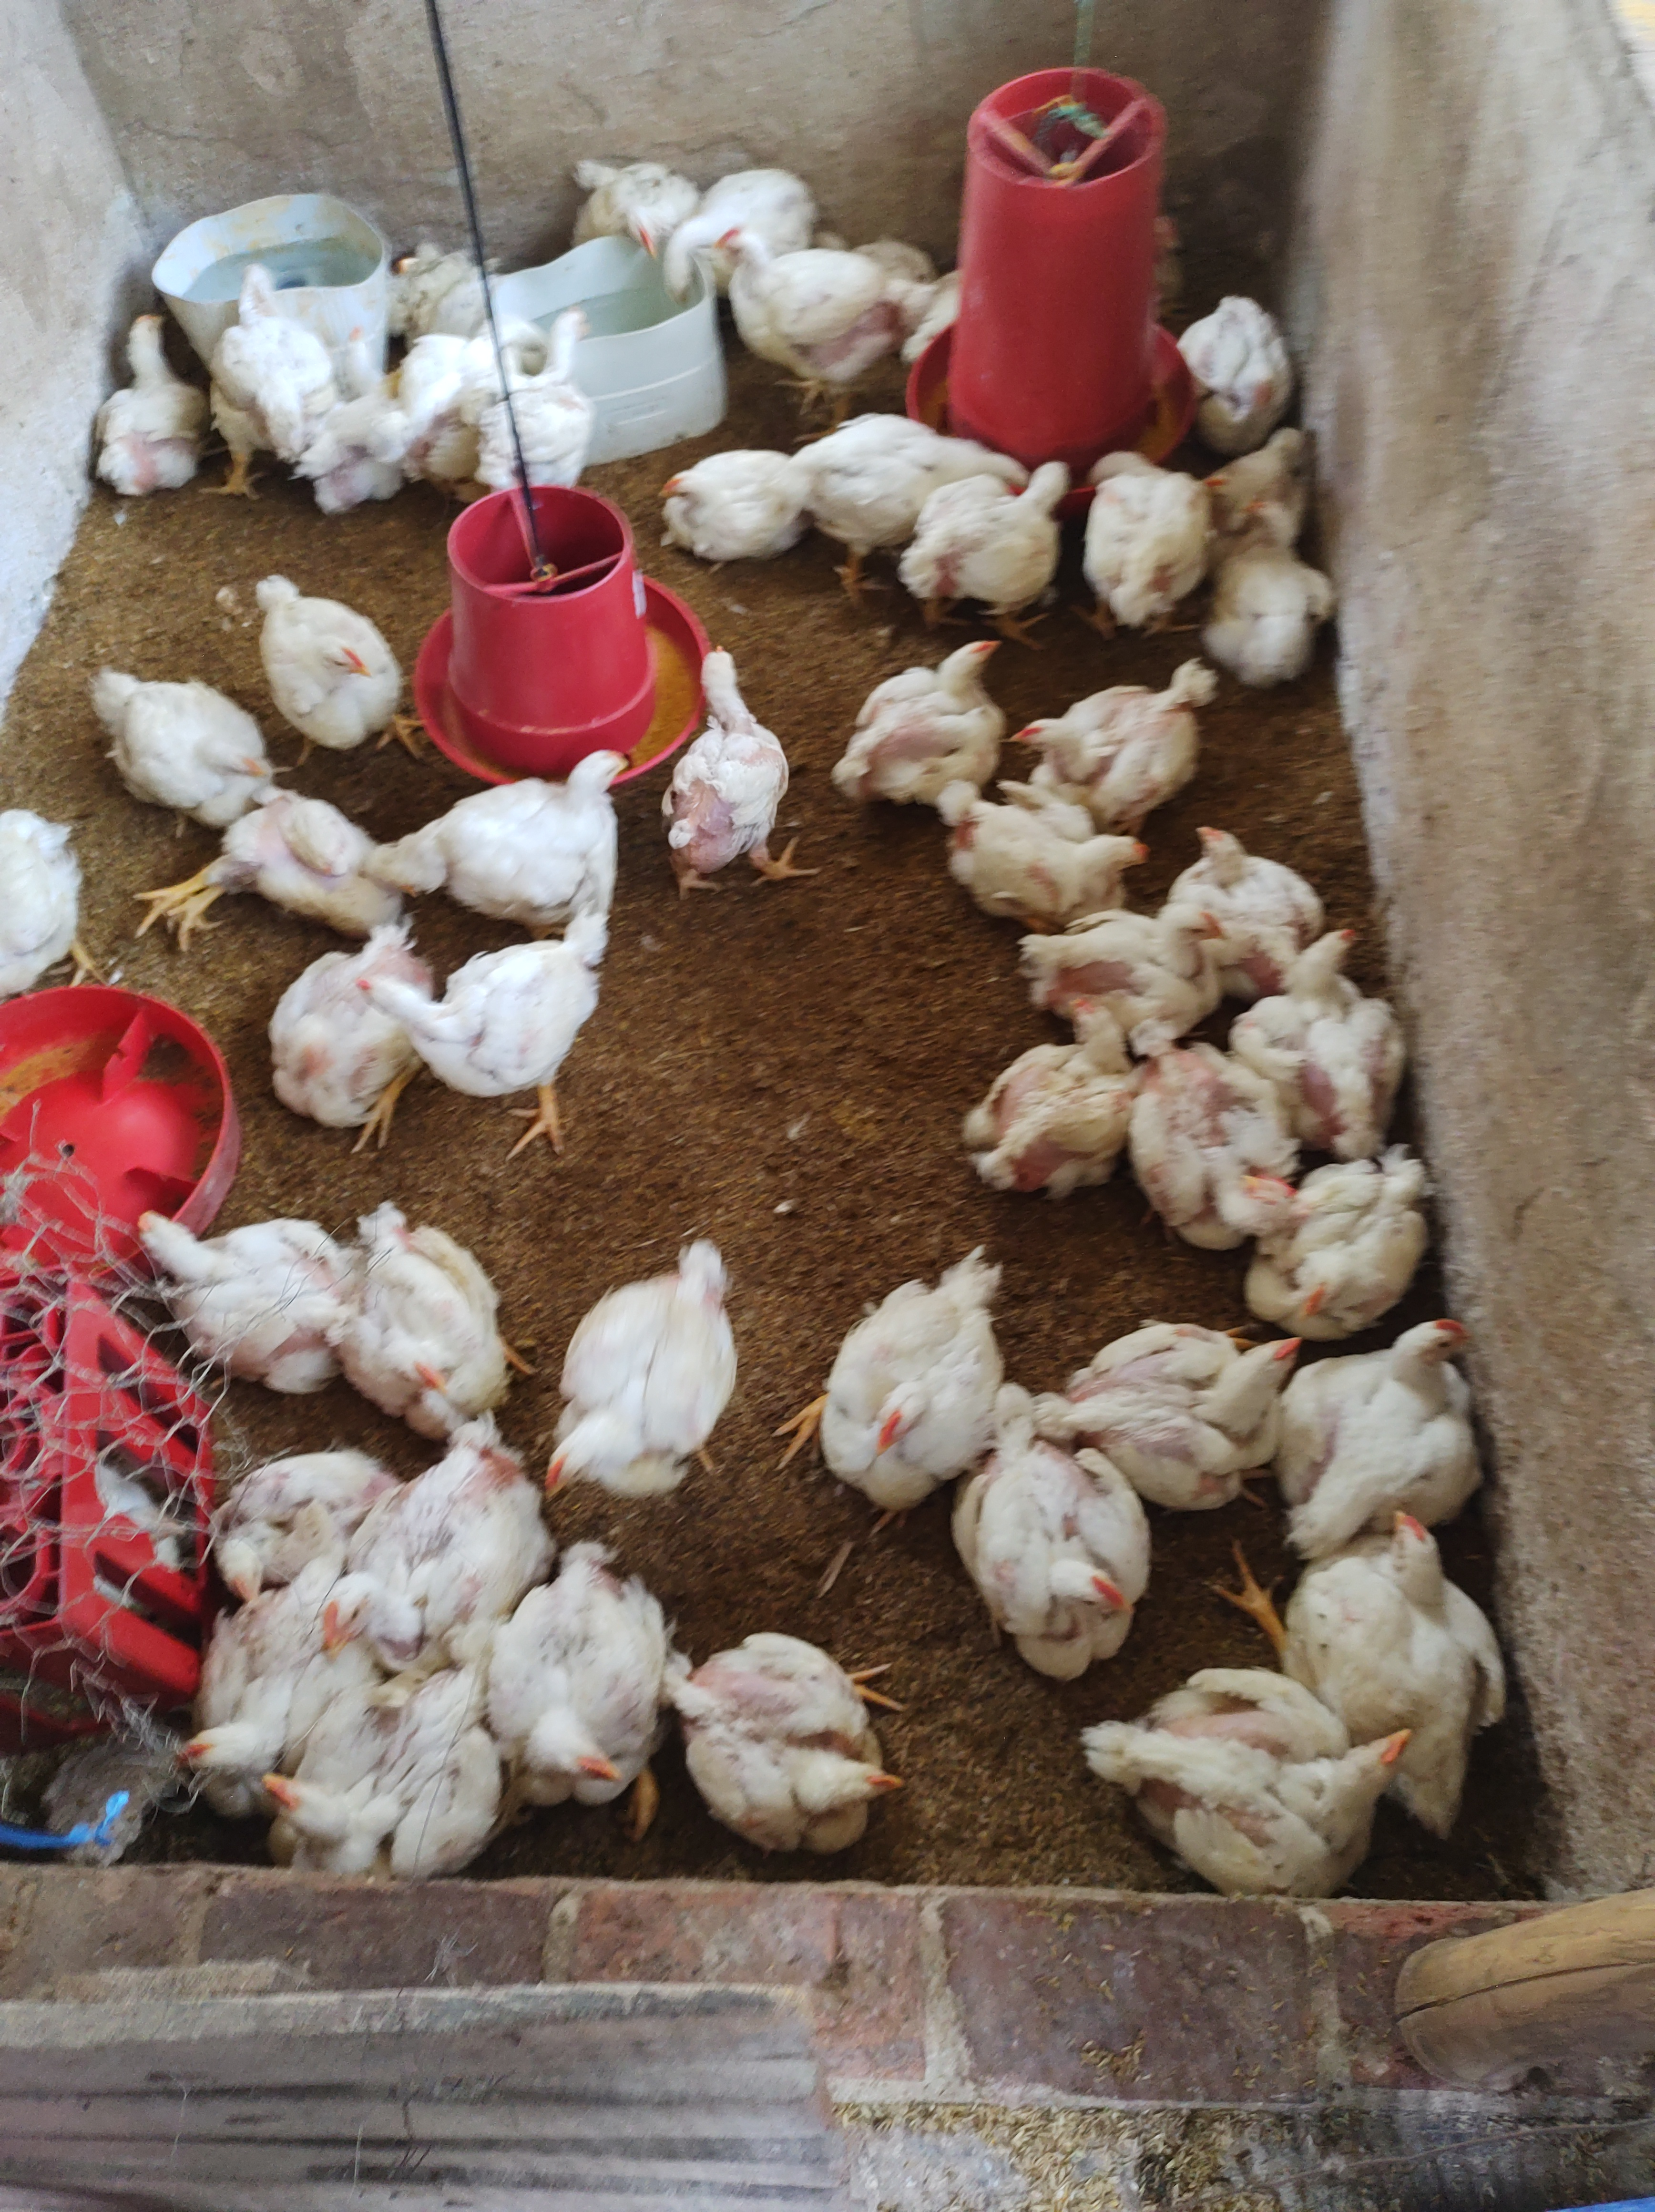Pollos: (1264, 1542, 1521, 1887), (1080, 1659, 1366, 1955), (673, 1596, 906, 1927), (774, 1236, 1036, 1523), (309, 1433, 555, 1706), (949, 1407, 1166, 1689), (308, 1162, 528, 1438), (1055, 1285, 1264, 1542), (417, 736, 659, 955), (502, 1499, 662, 1829), (562, 1240, 754, 1509), (165, 1553, 351, 1807), (163, 783, 415, 963), (1008, 661, 1259, 836), (362, 963, 608, 1141), (1299, 1344, 1516, 1542), (927, 765, 1168, 943), (793, 383, 1027, 562), (1255, 882, 1432, 1113), (1146, 1016, 1313, 1256), (120, 1202, 316, 1405), (647, 621, 803, 871), (1066, 416, 1222, 645), (259, 1715, 487, 1871), (1003, 896, 1220, 1059), (1227, 1149, 1445, 1308), (907, 452, 1109, 617), (827, 598, 1015, 774), (203, 240, 346, 471), (231, 911, 405, 1101), (716, 224, 907, 396), (223, 574, 415, 737), (961, 998, 1114, 1196), (1142, 821, 1332, 979), (90, 654, 257, 833), (85, 299, 228, 508), (174, 1464, 389, 1602), (666, 160, 845, 320), (1222, 504, 1368, 687), (1173, 270, 1307, 442), (655, 424, 819, 558), (525, 130, 675, 266), (499, 290, 586, 503), (80, 1410, 174, 1593), (402, 318, 511, 473), (1233, 416, 1351, 518), (376, 235, 494, 334), (873, 266, 972, 358)
